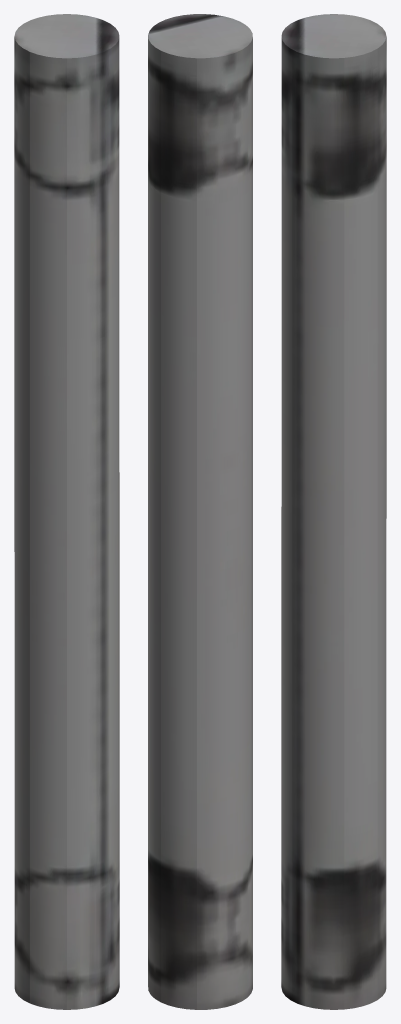
File: seat_pad__seat_cross_bracket.glb
The picture shows the model from 3 angles, left to right: view 1: azimuth 90°, elevation 25°; view 2: azimuth 210°, elevation 25°; view 3: azimuth 270°, elevation 25°; orthographic projection.
Parts seen in each view (by area): view 1: world; view 2: world; view 3: world.
Boxes of the visible parts, x1,y1,x2,y2 form: world: [14, 14, 119, 1009]; world: [148, 14, 252, 1009]; world: [281, 14, 386, 1009].
Bounding box in the file's own units: 0.024 × 0.24 × 0.024.
Materials: 1 (1 with a texture image).
